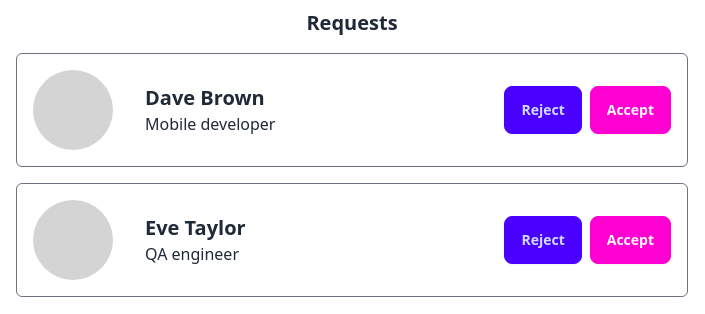
Test case: Request Flow › should remove request from list when Accept is clicked
The width and height of the screenshot is (705, 314).
Expected: the heading "Dave Brown" is shown, x1=145 y1=84 x2=265 y2=111
Expected: the heading "Eve Taylor" is shown, x1=145 y1=214 x2=246 y2=241
Click the button "Accept" in the row of "Mobile developer": (630, 110) x1=590 y1=86 x2=671 y2=134
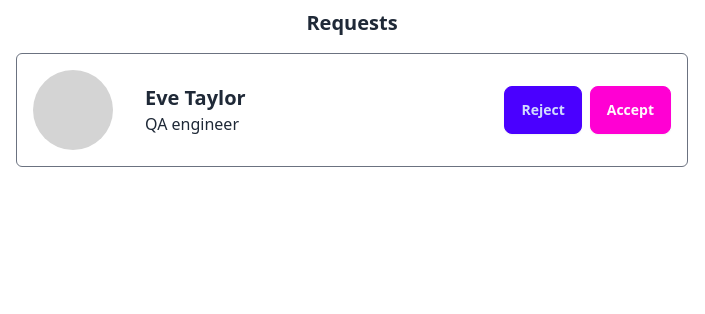
Expected: the heading "Dave Brown" is gone
